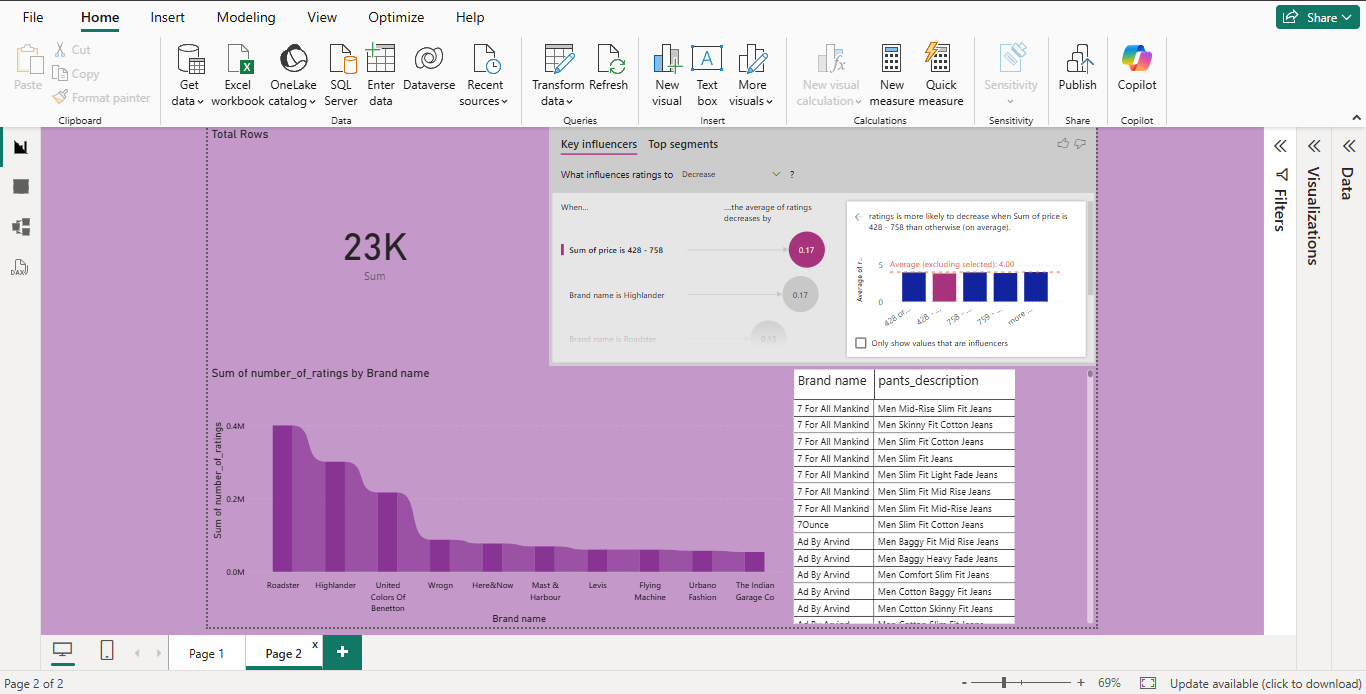

What the dashboard file says about the page in this screenshot:
{"tool":"powerbi","page":{"name":"Page 2","canvas":[1280,720],"ordinal":1},"visuals":[{"type":"card","title":"Total Rows","fields":{"Values":["myntra_dataset_ByScraping.Sum"]},"box":[0,0,480.4,332.6],"z":0},{"type":"keyDriversVisual","fields":{"Target":["myntra_dataset_ByScraping.ratings"],"ExplainBy":["myntra_dataset_ByScraping.Brand name","Sum(myntra_dataset_ByScraping.price)"]},"box":[490.5,0,789.5,344.4],"z":1000},{"type":"ribbonChart","fields":{"Category":["myntra_dataset_ByScraping.Brand name"],"Y":["Sum(myntra_dataset_ByScraping.number_of_ratings)"]},"box":[0,344.4,838.2,376.3],"z":2000},{"type":"tableEx","fields":{"Values":["myntra_dataset_ByScraping.Brand name","myntra_dataset_ByScraping.pants_description"]},"box":[838.2,344.4,441.8,376.3],"z":3000}]}

Visuals, with their boxes on the page's 1280x720 design canvas (x1, y1, x2, y2). These are canvas units, not pixel positions in the 1366x694 screenshot, which may show the page scaled, cropped or inside an application window:
"Total Rows" card: {"left": 0, "top": 0, "right": 480, "bottom": 333}
keyDriversVisual - myntra_dataset_ByScraping.ratings x myntra_dataset_ByScraping.Brand name: {"left": 490, "top": 0, "right": 1280, "bottom": 344}
ribbonChart - myntra_dataset_ByScraping.Brand name x Sum(myntra_dataset_ByScraping.number_of_ratings): {"left": 0, "top": 344, "right": 838, "bottom": 721}
tableEx - myntra_dataset_ByScraping.Brand name x myntra_dataset_ByScraping.pants_description: {"left": 838, "top": 344, "right": 1280, "bottom": 721}
